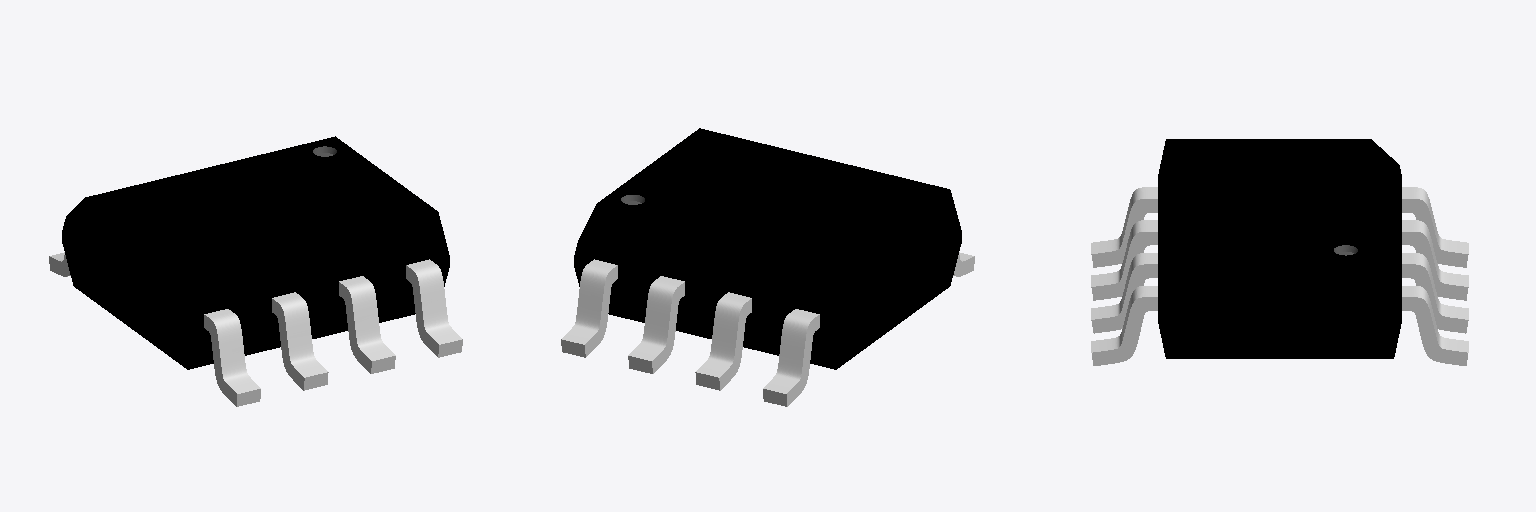
File: SOIC8.obj
3 renders of one model, left to right at view 1: azimuth 30°, elevation 25°; view 2: azimuth 150°, elevation 25°; view 3: azimuth 270°, elevation 25°, orthographic.
Visible parts, largest first — view 1: Solid1, Solid9, Solid8; view 2: Solid1, Solid9, Solid8; view 3: Solid1, Solid9, Solid8.
Boxes of the visible parts, box(x1,y1,x2,y2) form: Solid1: box(62, 136, 449, 369); Solid9: box(49, 252, 462, 406); Solid8: box(272, 276, 395, 390); Solid1: box(574, 128, 961, 369); Solid9: box(561, 252, 974, 406); Solid8: box(628, 276, 751, 390); Solid1: box(1158, 139, 1401, 358); Solid9: box(1091, 187, 1468, 365); Solid8: box(1091, 220, 1468, 333).
Bounding box in the file's own units: 5 × 2 × 6.17.